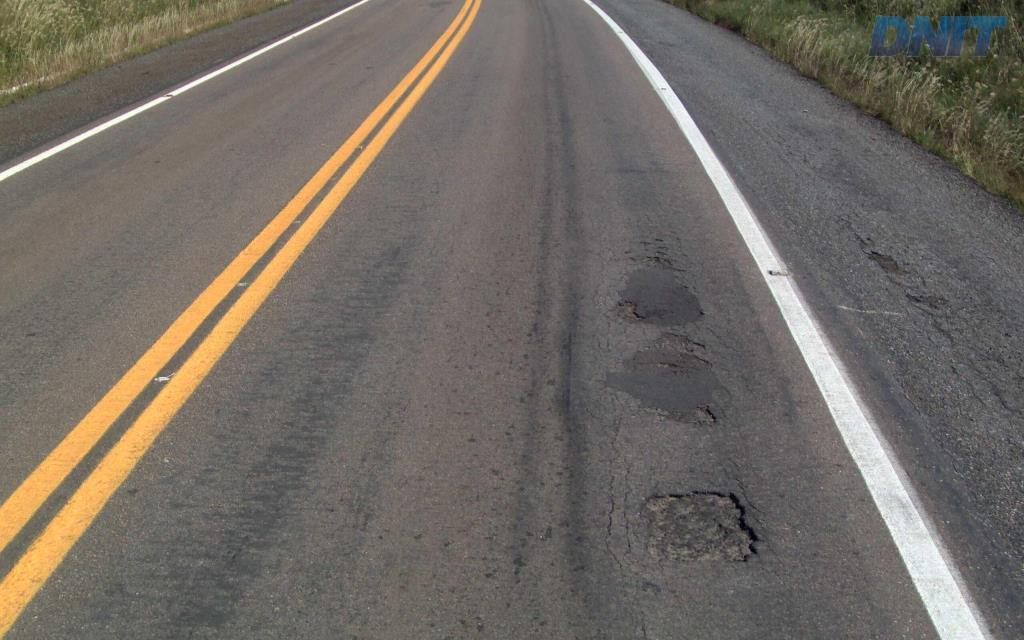pothole: (632, 473, 768, 573), (606, 292, 646, 324), (692, 401, 721, 428)
